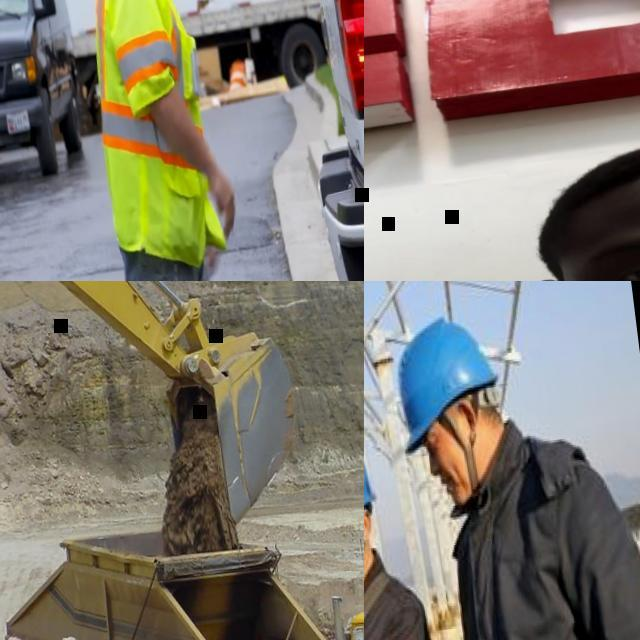helmet: (382, 315, 509, 454)
vest: (75, 0, 229, 274)
